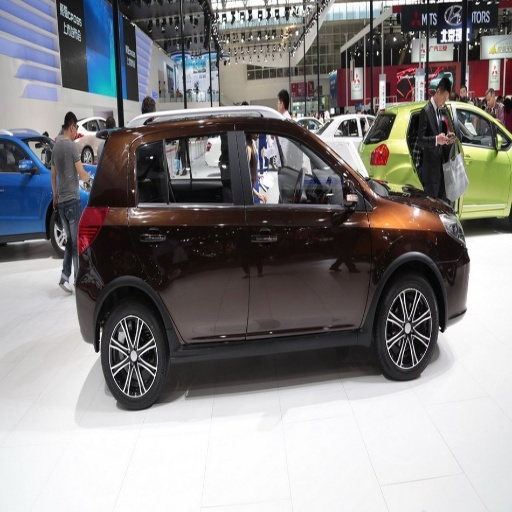front_right_door: (241, 118, 370, 332)
